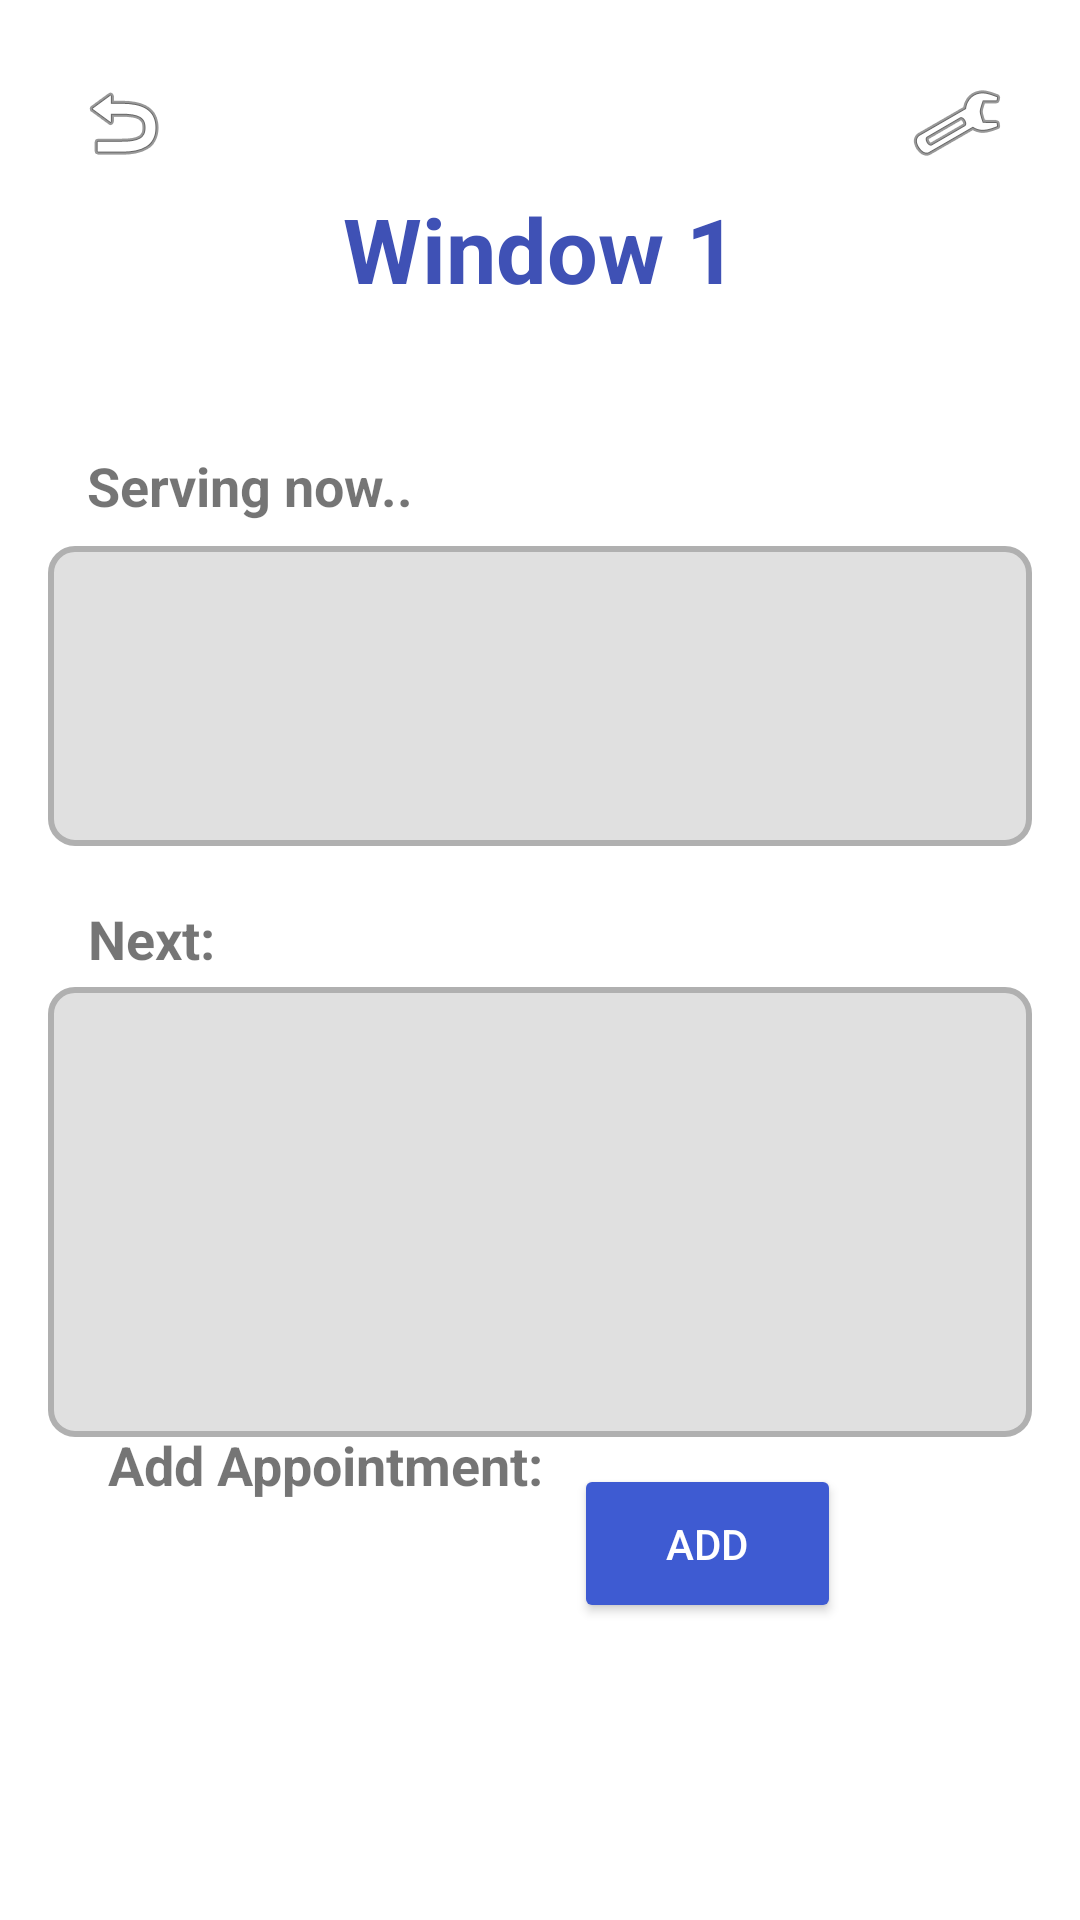

Icon bounding boxes for this 1080px x 1920px phone screenshot, format {"left": x1, "top": y1, "right": x2, "bottom": y2}:
Back: {"left": 90, "top": 92, "right": 159, "bottom": 155}
Settings: {"left": 914, "top": 90, "right": 1000, "bottom": 156}
